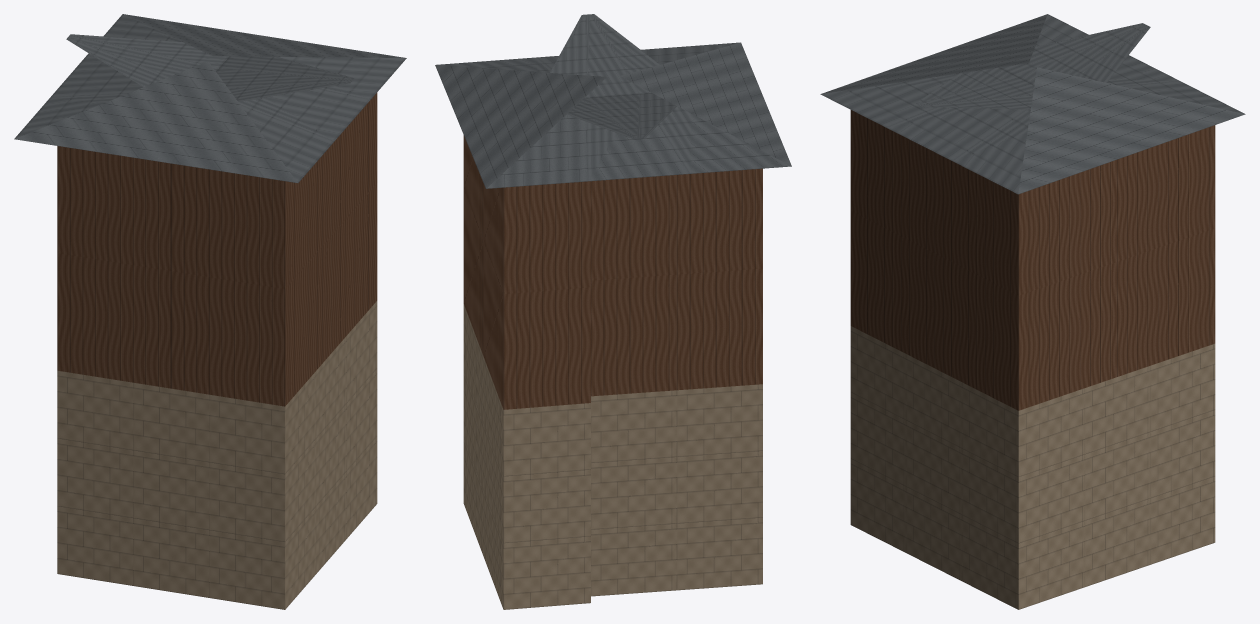
The model's file is bld_c20_31_369.gltf.
3 views of the same model, side by side, from view 1: azimuth 30°, elevation 25°; view 2: azimuth 150°, elevation 25°; view 3: azimuth 270°, elevation 25° (orthographic). The views are drawn at different scales.
Parts seen in each view (by area): view 1: bld_c20_31_369; view 2: bld_c20_31_369; view 3: bld_c20_31_369.
Part boxes in pixels (x1=…): bld_c20_31_369: x1=14, y1=14, x2=406, y2=609; bld_c20_31_369: x1=435, y1=14, x2=791, y2=609; bld_c20_31_369: x1=820, y1=14, x2=1245, y2=609.
Bounding box in the file's own units: 9.92 × 12 × 9.88.
Materials: 3 (3 with a texture image).
